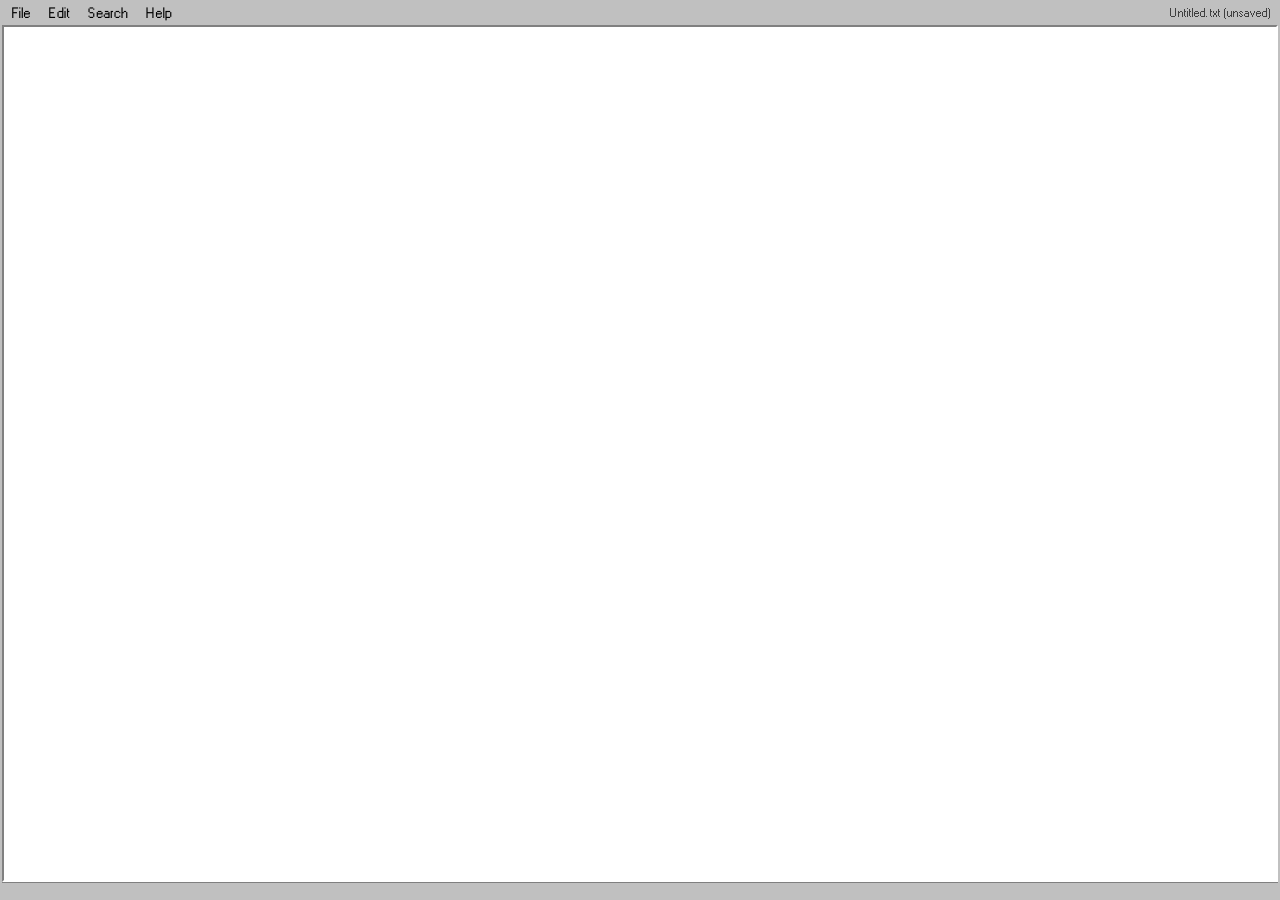
Scenario: Notepad find › opens with Ctrl+F, seeds the box from the selection and counts matches
Step 1. Type "one two one two one" into the text box with class "notepad-textarea" → (640, 454), box [2,25,1278,882]
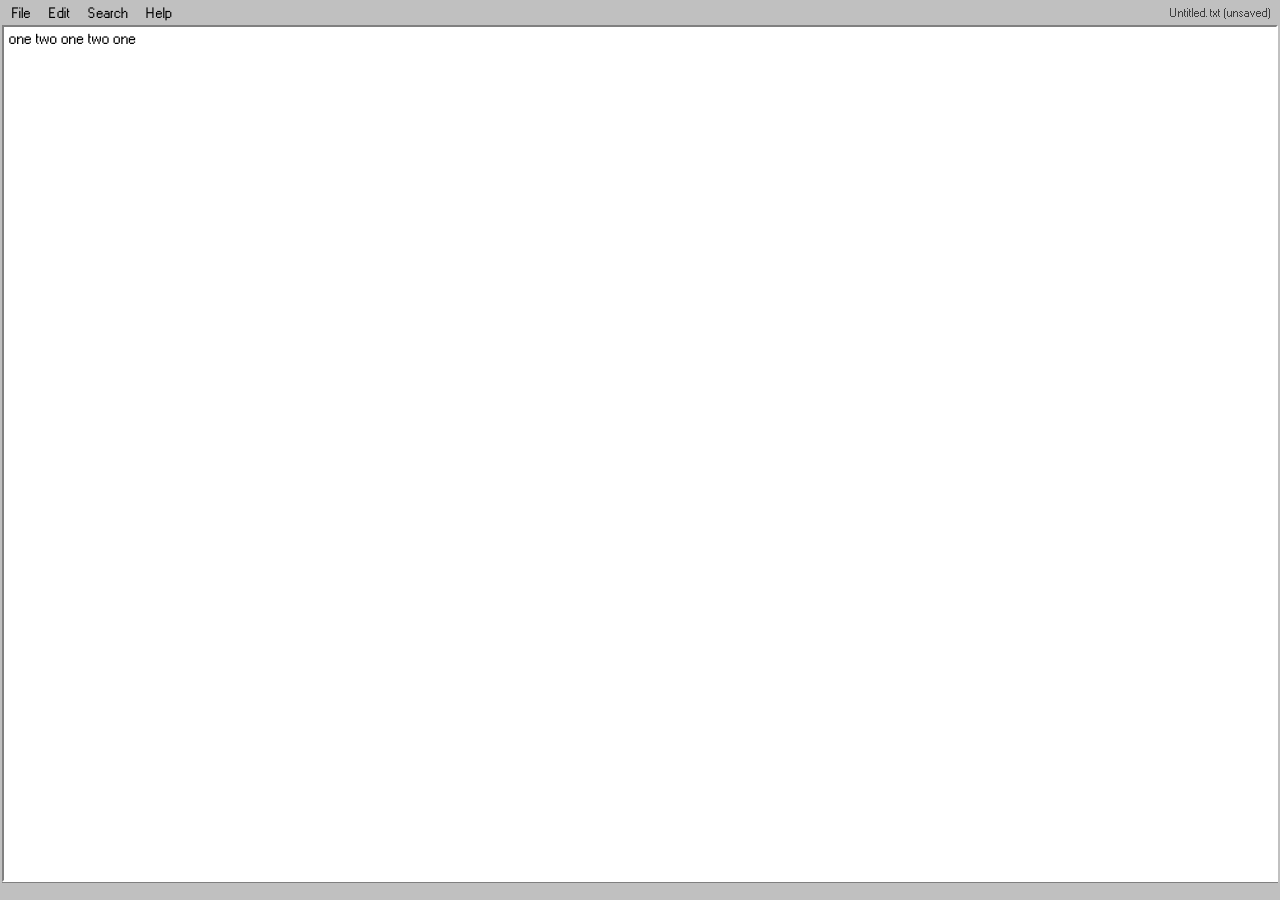
Step 2. Press f in the text box with class "notepad-textarea"
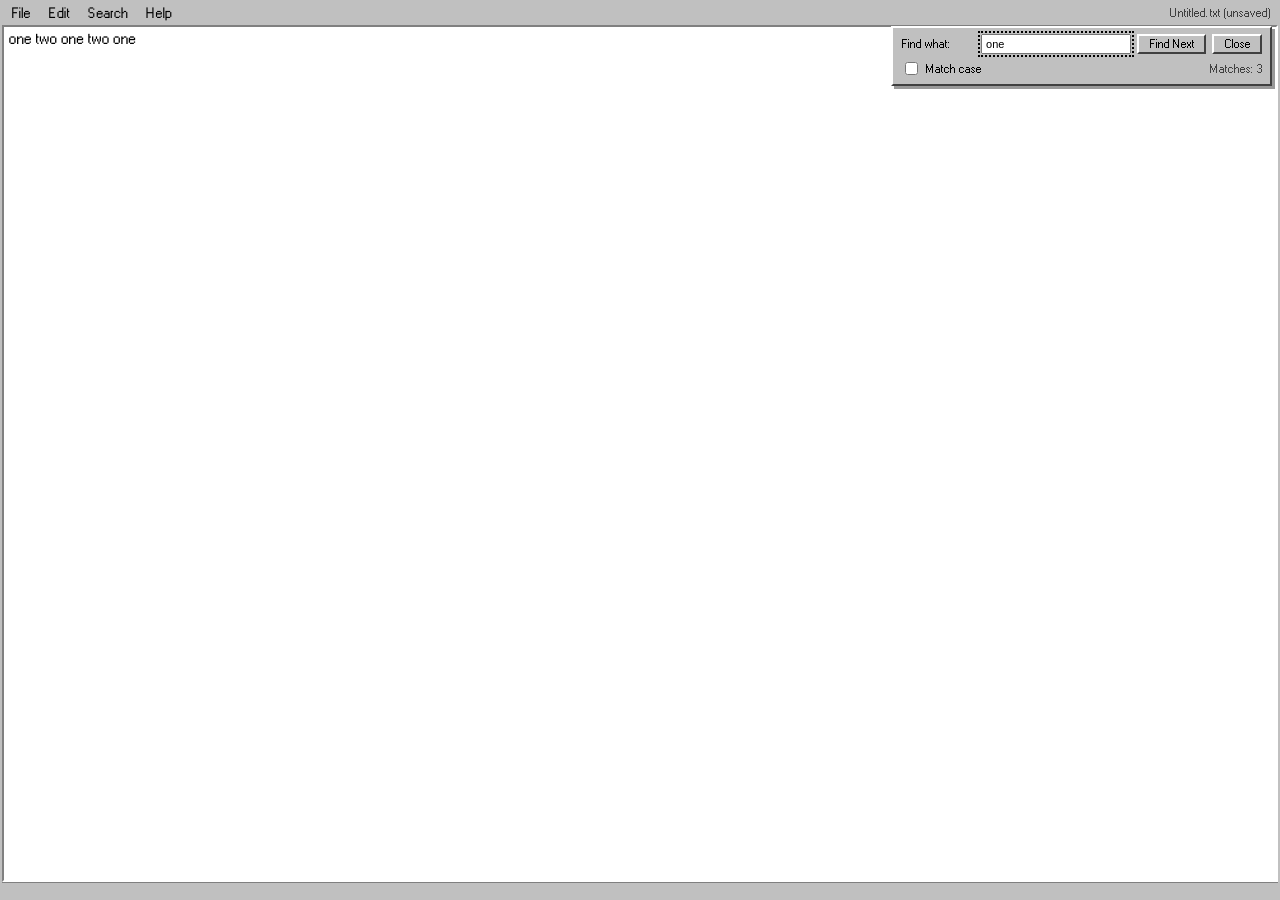
Result: the field labelled "Find what:" holds "one" at [981,34,1131,54]
Result: the text "Matches: 3" is shown at [1209,62,1262,74]
